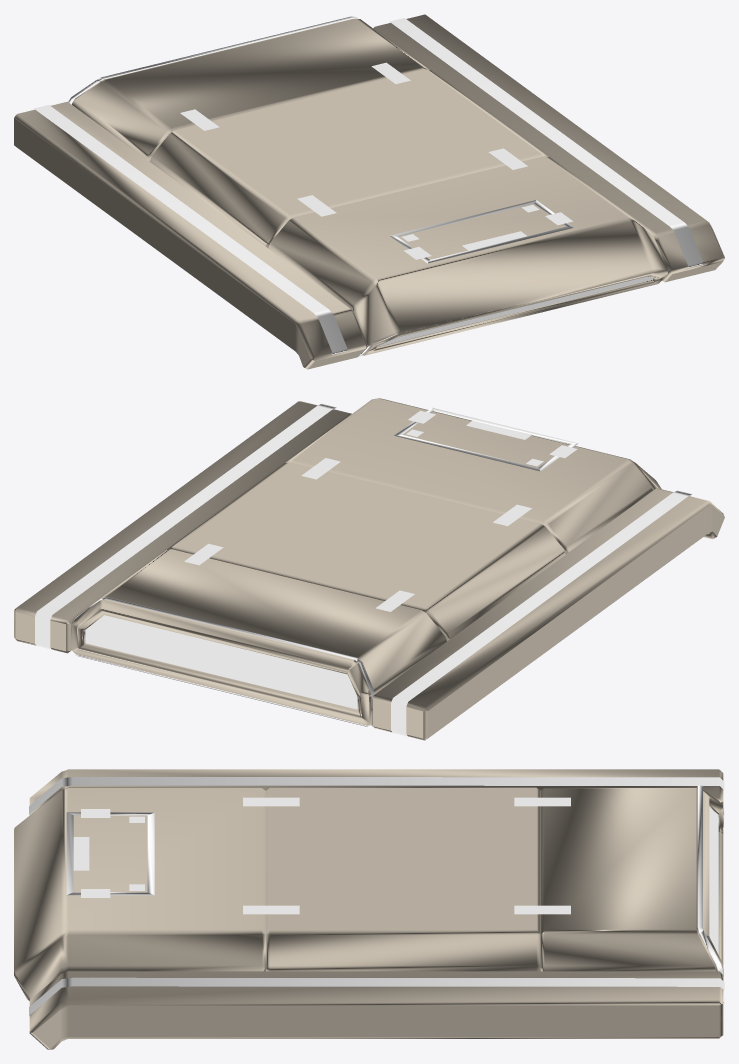
File: barrier_flat_08x10x01.glb
3 renders of one model, top to bottom at view 1: azimuth 30°, elevation 25°; view 2: azimuth 150°, elevation 25°; view 3: azimuth 270°, elevation 25°, orthographic. The views are drawn at different scales.
Bounding box in the file's own units: 7.98 × 1.29 × 10.25.
